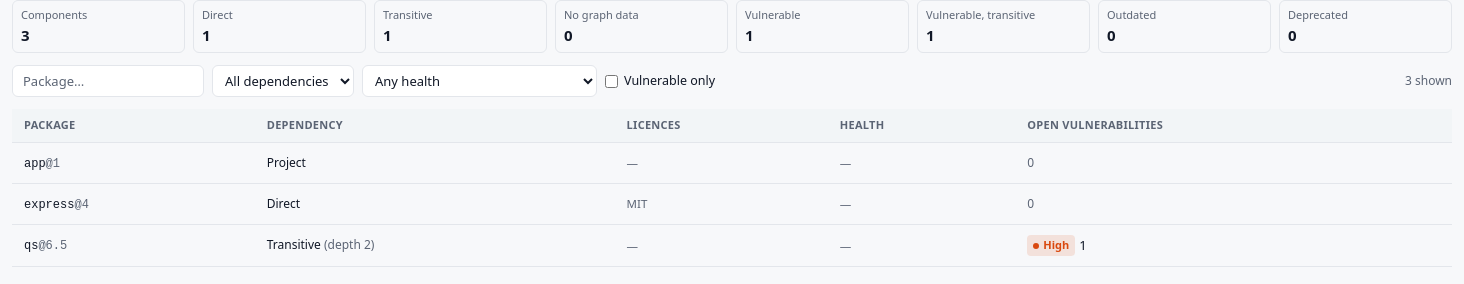
it: dependency panel › shows direct and transitive dependencies and explains a path
Expected: the text "Vulnerable, transitive" is shown, [926,7,1035,22]
Click the checkbox labelled "Vulnerable only" at {"x": 612, "y": 81}, box [605,74,618,88]
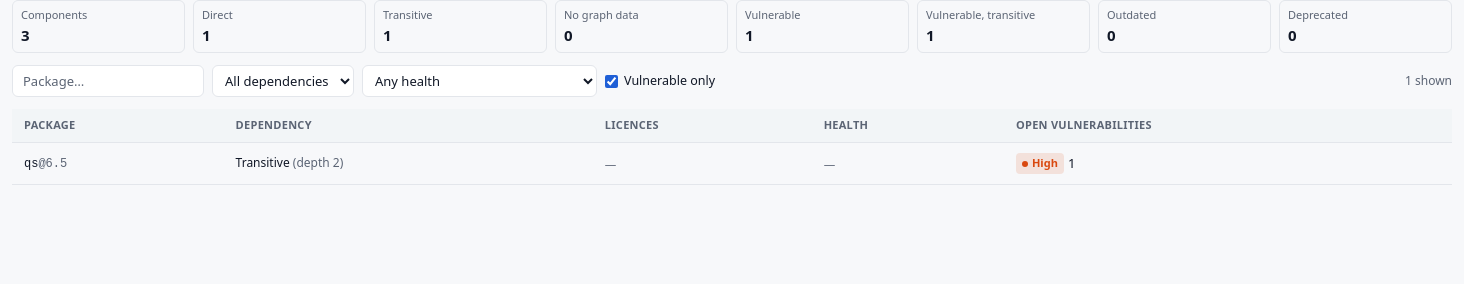
Expected: the button "express" is gone
Click the button "qs@6.5" at {"x": 46, "y": 164}, box [24,155,67,173]
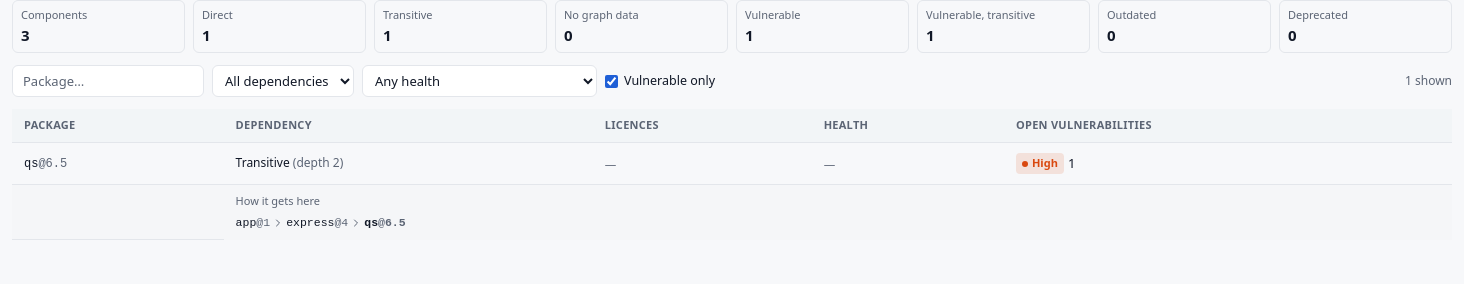
Expected: the text "How it gets here" is shown, [236,193,320,208]
Expected: the text "express" is shown, [286,216,334,229]
